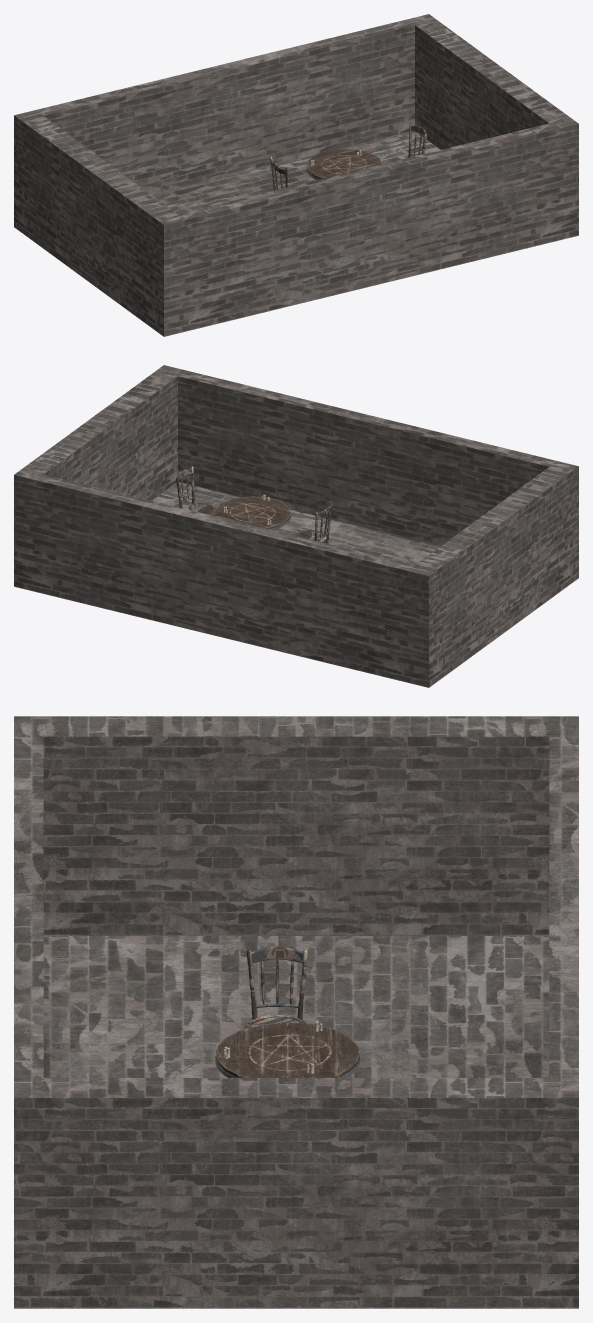
File: FULL-ROOM_EXTRA-ROOM_23-10.gltf
3 views of the same model, one above another, from view 1: azimuth 30°, elevation 25°; view 2: azimuth 150°, elevation 25°; view 3: azimuth 270°, elevation 25° (orthographic). The views are drawn at different scales.
Visible parts, largest first — view 1: Cube.001, kolco_low_001__0; view 2: Cube.001, kolco_low_001__0, Fixator__0, Fixator__0.001; view 3: Cube.001, kolco_low_001__0, Fixator__0.001.
Part boxes in pixels (x1,y1,x2,y2): Cube.001: (14, 14, 578, 336); kolco_low_001__0: (306, 149, 382, 179); Cube.001: (14, 365, 578, 687); kolco_low_001__0: (214, 494, 290, 530); Fixator__0: (176, 466, 215, 515); Fixator__0.001: (293, 500, 332, 543); Cube.001: (14, 716, 578, 1308); kolco_low_001__0: (215, 1020, 359, 1077); Fixator__0.001: (245, 946, 307, 1028).
Size of the model in its own units: 2.06 by 0.5317 by 1.29.
